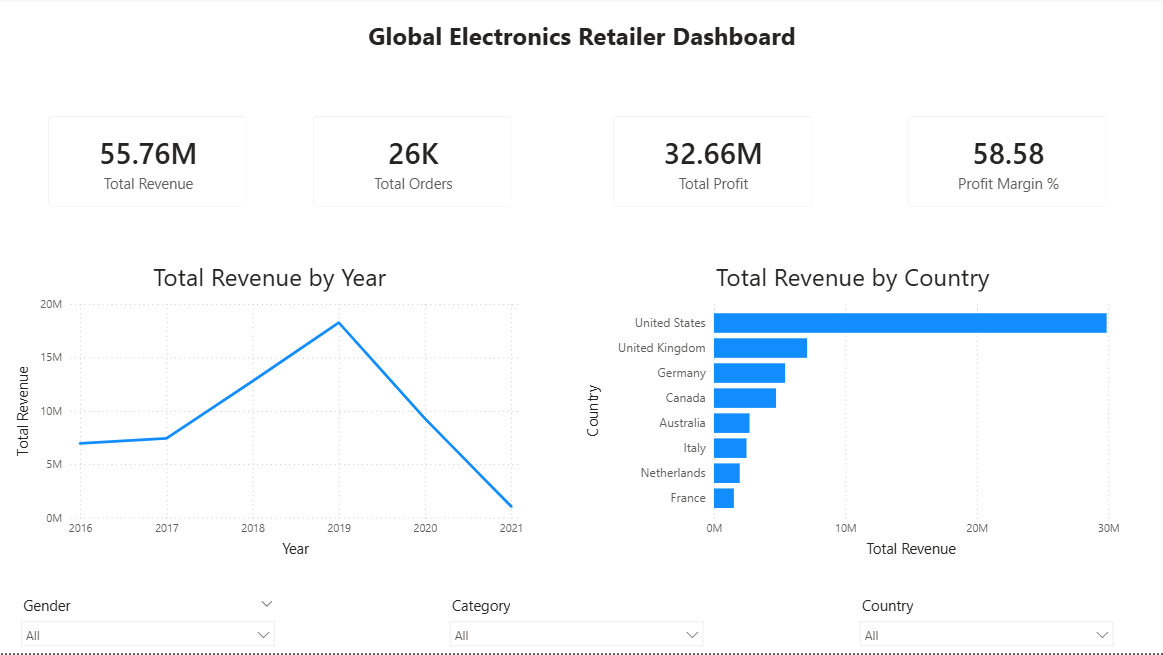

Layout of this report page (visuals, bound fields, positions):
{"tool":"powerbi","page":{"name":"Page 1","canvas":[1280,720],"ordinal":0},"visuals":[{"type":"cardVisual","fields":{"Data":["Global_Electronics_Retailers_master_dataset.Total Revenue"]},"box":[37,113.9,252.5,134.5],"z":0},{"type":"cardVisual","fields":{"Data":["Global_Electronics_Retailers_master_dataset.Total Orders"]},"box":[328,113.9,252.5,134.5],"z":1000},{"type":"cardVisual","fields":{"Data":["Global_Electronics_Retailers_master_dataset.Total Profit"]},"box":[657.3,113.9,252.5,134.5],"z":2000},{"type":"cardVisual","fields":{"Data":["Global_Electronics_Retailers_master_dataset.Profit Margin %"]},"box":[981.1,113.9,252.5,134.5],"z":3000},{"type":"textbox","box":[370.4,19.2,539.3,65.9],"z":4000},{"type":"lineChart","fields":{"Category":["Global_Electronics_Retailers_master_dataset.Order Date.Variation.Date Hierarchy.Year","Global_Electronics_Retailers_master_dataset.Order Date.Variation.Date Hierarchy.Quarter","Global_Electronics_Retailers_master_dataset.Order Date.Variation.Date Hierarchy.Month","Global_Electronics_Retailers_master_dataset.Order Date.Variation.Date Hierarchy.Day"],"Y":["Global_Electronics_Retailers_master_dataset.Total Revenue"]},"box":[13.7,288.2,566.7,332.1],"z":5000},{"type":"barChart","title":"Total Revenue by Country","fields":{"Category":["Global_Electronics_Retailers_master_dataset.Country_Customer"],"Y":["Global_Electronics_Retailers_master_dataset.Total Revenue"]},"box":[639.5,288.2,595.5,332.1],"z":6000},{"type":"slicer","fields":{"Values":["Global_Electronics_Retailers_master_dataset.Category"]},"box":[484.4,651.8,299.1,68.6],"z":7000},{"type":"slicer","fields":{"Values":["Global_Electronics_Retailers_master_dataset.Country_Customer"]},"box":[934.5,651.8,299.1,68.6],"z":8000},{"type":"slicer","fields":{"Values":["Global_Electronics_Retailers_master_dataset.Gender"]},"box":[13.7,651.8,299.1,68.6],"z":9000}]}

Visuals, with their boxes in screenshot pixels (x1, y1, x2, y2), scaled from the page's 1280x720 canvas onto the 1163x655 screenshot:
cardVisual - Global_Electronics_Retailers_master_dataset.Total Revenue: bbox=(34, 104, 263, 226)
cardVisual - Global_Electronics_Retailers_master_dataset.Total Orders: bbox=(298, 104, 527, 226)
cardVisual - Global_Electronics_Retailers_master_dataset.Total Profit: bbox=(597, 104, 827, 226)
cardVisual - Global_Electronics_Retailers_master_dataset.Profit Margin %: bbox=(891, 104, 1121, 226)
textbox: bbox=(337, 17, 827, 77)
lineChart - Global_Electronics_Retailers_master_dataset.Order Date.Variation.Date Hierarchy.Year x Global_Electronics_Retailers_master_dataset.Order Date.Variation.Date Hierarchy.Quarter: bbox=(12, 262, 527, 564)
"Total Revenue by Country" barChart: bbox=(581, 262, 1122, 564)
slicer - Global_Electronics_Retailers_master_dataset.Category: bbox=(440, 593, 712, 654)
slicer - Global_Electronics_Retailers_master_dataset.Country_Customer: bbox=(849, 593, 1121, 654)
slicer - Global_Electronics_Retailers_master_dataset.Gender: bbox=(12, 593, 284, 654)
